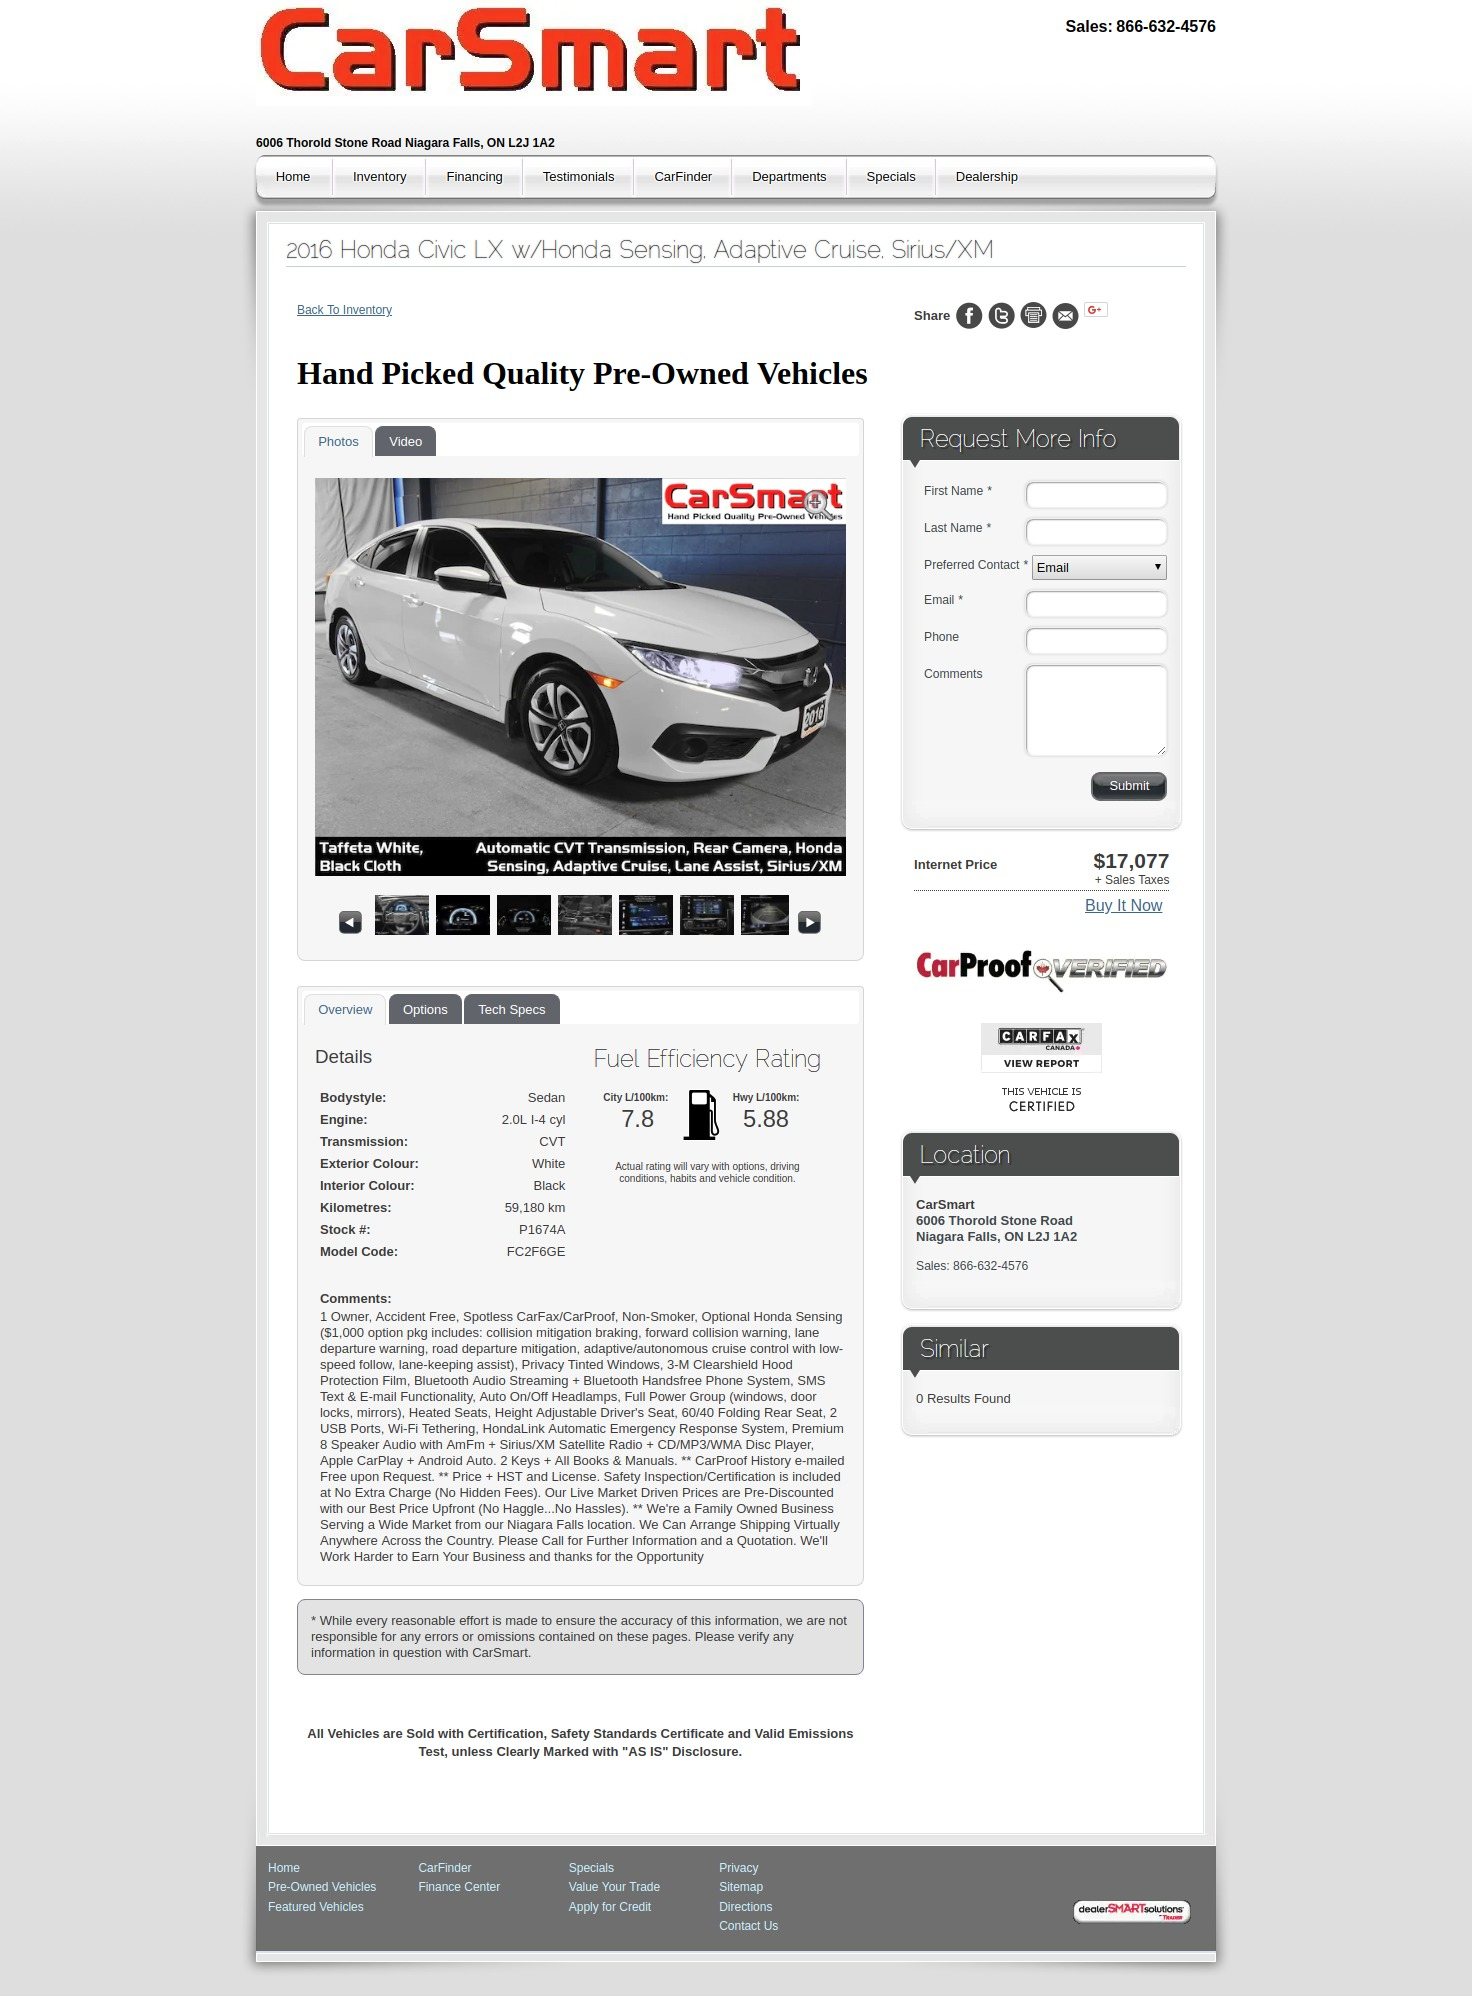car: (798, 911, 823, 936)
